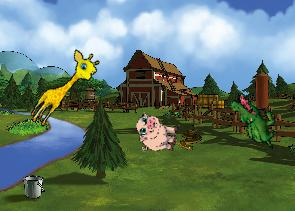crocodile: (220, 90, 289, 151)
giraffe: (26, 44, 103, 135)
pig: (133, 111, 180, 155)
